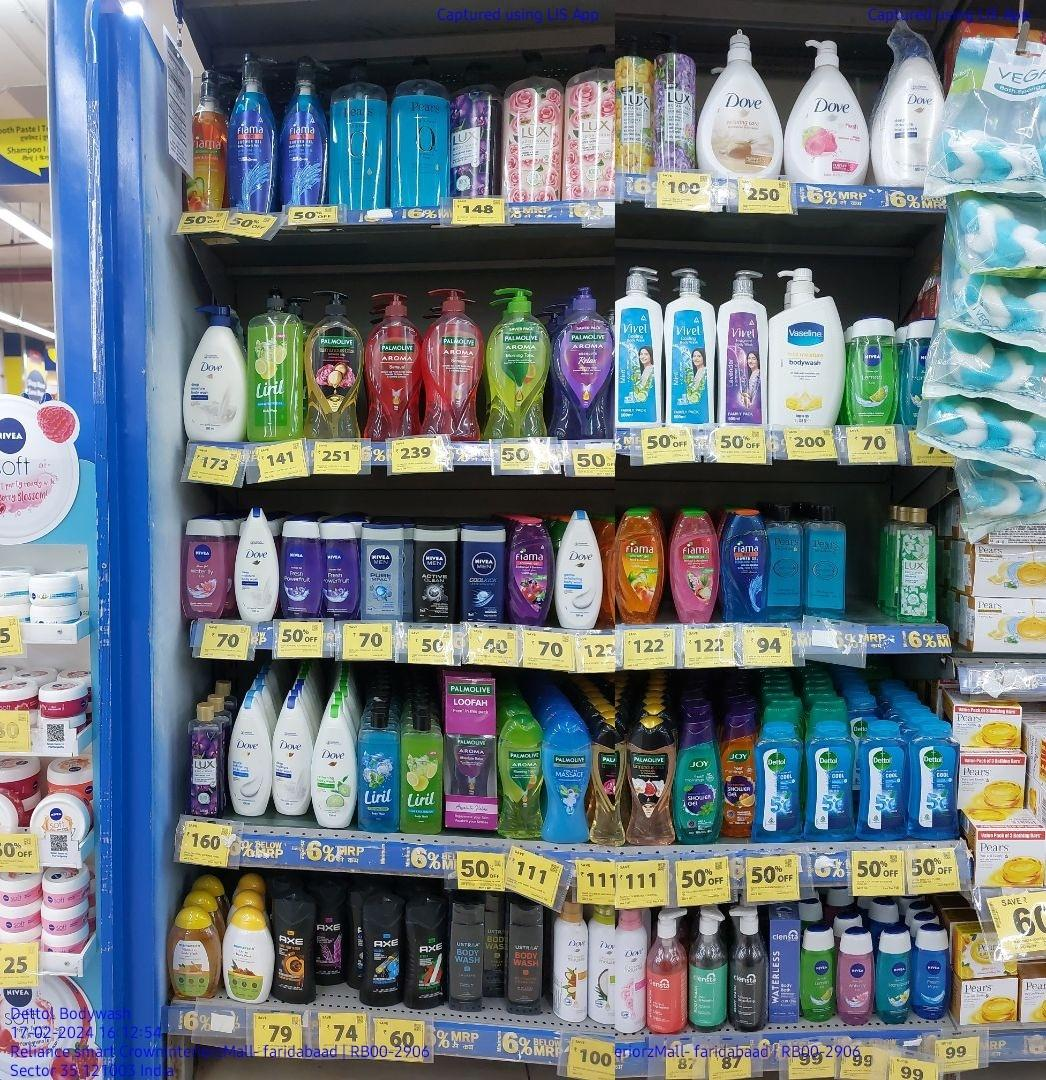Dettol_Bodywash_Cool: (806, 719, 856, 840), (757, 722, 805, 842), (861, 720, 908, 840), (912, 722, 960, 838)
Dove_Deep_Moisture_Body_Wash_250ML: (272, 694, 313, 814), (235, 507, 277, 620)
Dove_Gentle_Exfoliating_Body_Wash_250ML: (555, 508, 602, 629), (230, 697, 271, 813)
Dove_Refreshing_Body_Wash_250ML: (316, 707, 355, 829)
Fiama_Shower_Gel_Patchouli_and_Macadamia_250ML: (669, 508, 716, 622)
Fiama_Shower_Gel_Peach_and_Avocado_250ML: (616, 507, 659, 622)
Joy_Shower_Gel_Mandarin_and_Lemongrass_250ML: (725, 715, 754, 839)
Joy_Shower_Gel_Mint_and_Eucalyptus_250ML: (679, 718, 723, 843)
Liril_Cooling_Mint_Body_Wash_250ML: (358, 710, 400, 832)
Liril_Lime_and_Tea_Tree_Oil_Body_Wash_250ML: (403, 712, 442, 834)
Lux_Black_Orchid_Scent_and_Juniper_Oil_Body_Wash_245ML: (184, 697, 221, 813)
Lux_Body_Wash_Skin_Detox_Freesia_Scent_and_Alove_Vera_245ML: (895, 507, 938, 624)
Nivea_Shower_Gel_Frangipani_and_Oil_250ML: (876, 928, 910, 1025)
Nivea_Shower_Gel_Fresh_Powerfruit_250ML: (280, 517, 322, 618), (325, 519, 359, 616)
Nivea_Shower_Gel_Lemon_and_Oil_250ML: (849, 316, 899, 428), (799, 923, 839, 1021)
Nivea_Shower_Gel_Waterlily_and_Oil_250ML: (181, 516, 225, 619), (840, 927, 875, 1024)
Palmolive_Aroma_Moments_Feel_The_Massage_Shower_Gel_250ML: (548, 715, 589, 842)
Palmolive_Aroma_Morning_Tonic_Shower_Gel_250ML: (498, 715, 546, 840)
Palmolive_Luminous_Oils_With_White_Orchid_Shower_Gel_250ML: (626, 716, 678, 846)
